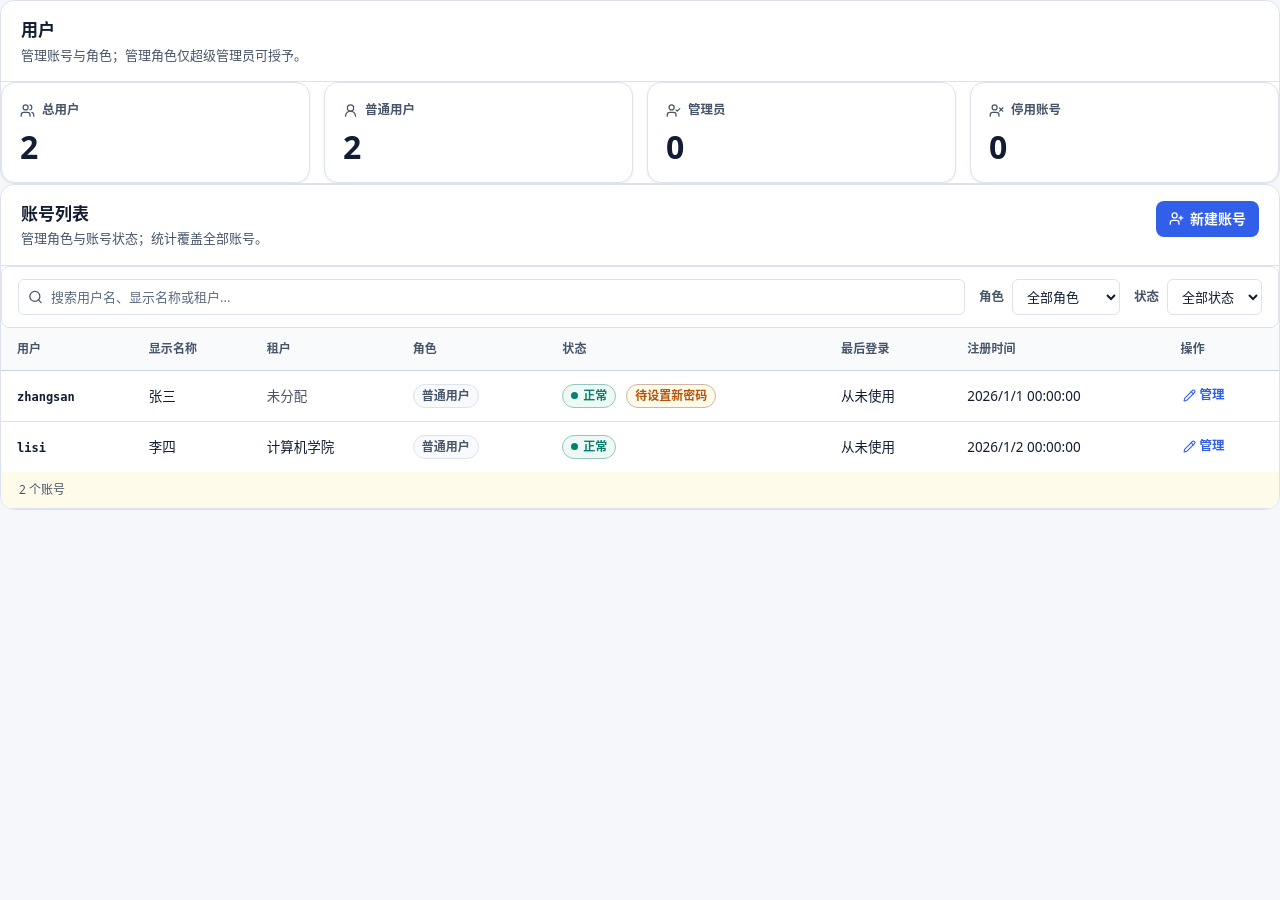
Scenario: UsersPage password reset › shows that a handover is still outstanding
This screenshot has width=1280, height=900.
Click the button "管理" in the row of "zhangsan".
click(1204, 396)  # box [1180,384,1226,407]
(page scrolled)
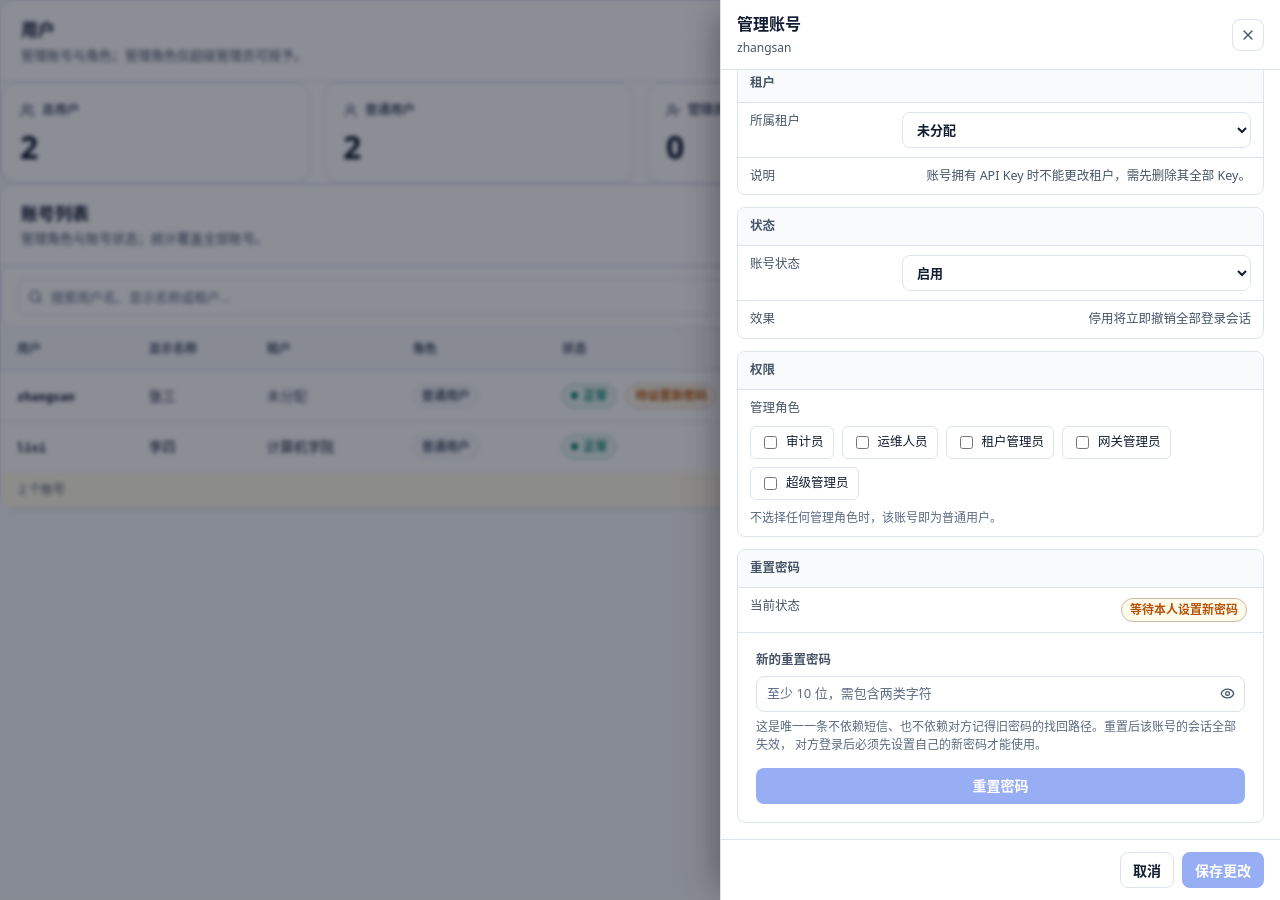
Check: the text "等待本人设置新密码" is shown, box [1121,598,1247,622]
